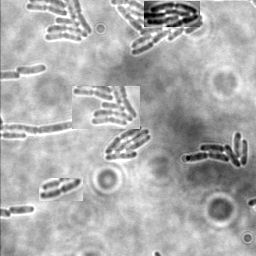Dividing: (39, 178, 83, 201), (8, 204, 35, 215)
Microcolony: (25, 1, 94, 44), (72, 86, 140, 129), (184, 130, 248, 167), (144, 1, 200, 27), (16, 63, 48, 74)
